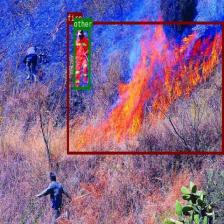fire: (67, 21, 223, 153)
